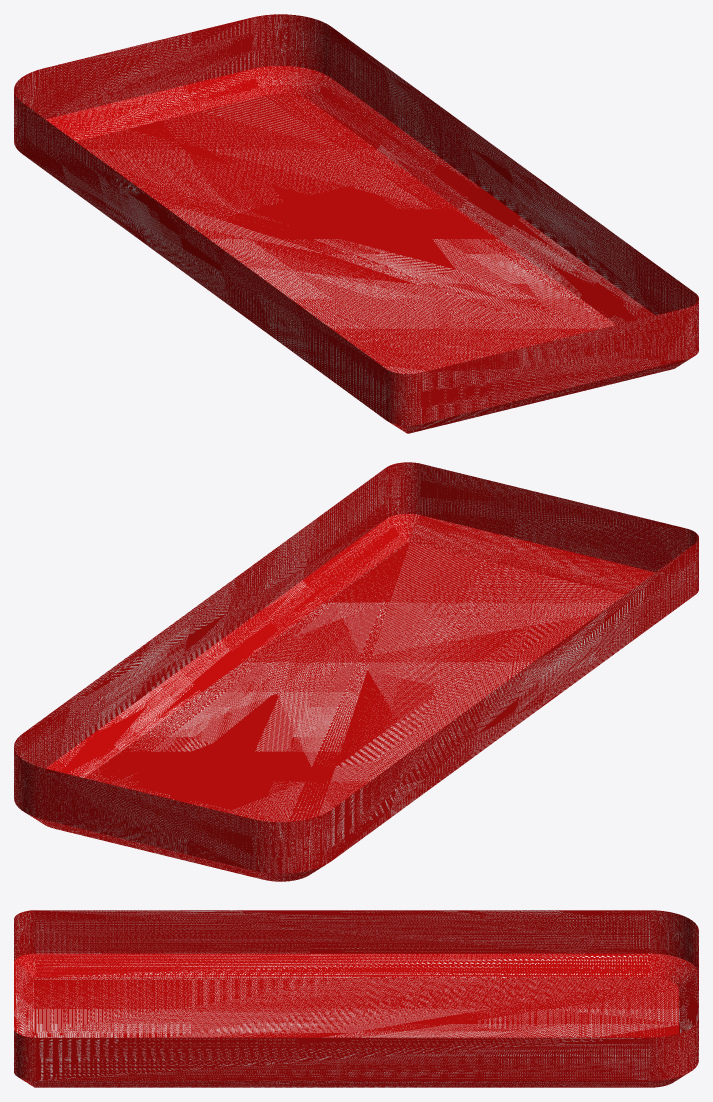
File: original-23.obj
3 views of the same model, one above another, from view 1: azimuth 30°, elevation 25°; view 2: azimuth 150°, elevation 25°; view 3: azimuth 270°, elevation 25° (orthographic). The views are drawn at different scales.
Visible parts, largest first — view 1: Group24/mesh23/mesh23-geometry#mesh23-geometry; view 2: Group24/mesh23/mesh23-geometry#mesh23-geometry; view 3: Group24/mesh23/mesh23-geometry#mesh23-geometry.
Boxes of the visible parts, x1,y1,x2,y2 form: Group24/mesh23/mesh23-geometry#mesh23-geometry: (14, 14, 698, 433); Group24/mesh23/mesh23-geometry#mesh23-geometry: (14, 462, 698, 881); Group24/mesh23/mesh23-geometry#mesh23-geometry: (14, 910, 698, 1087).
Bounding box in the file's own units: 0.4986 × 0.1071 × 1.13.
